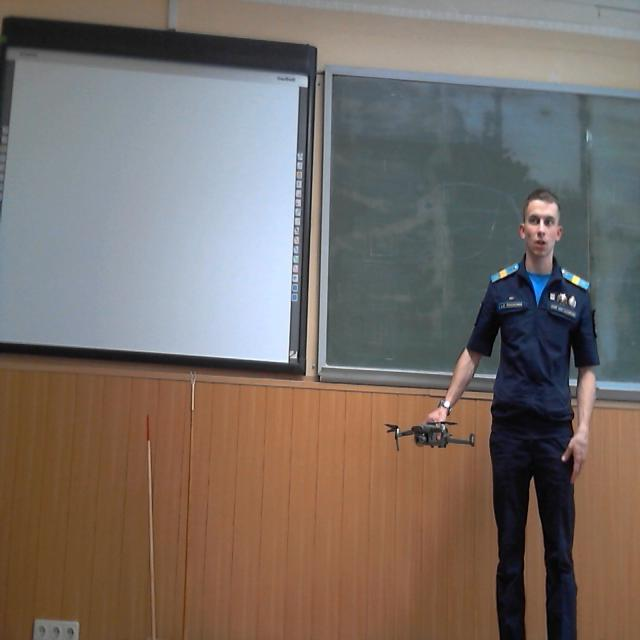drone: (385, 407, 486, 461)
